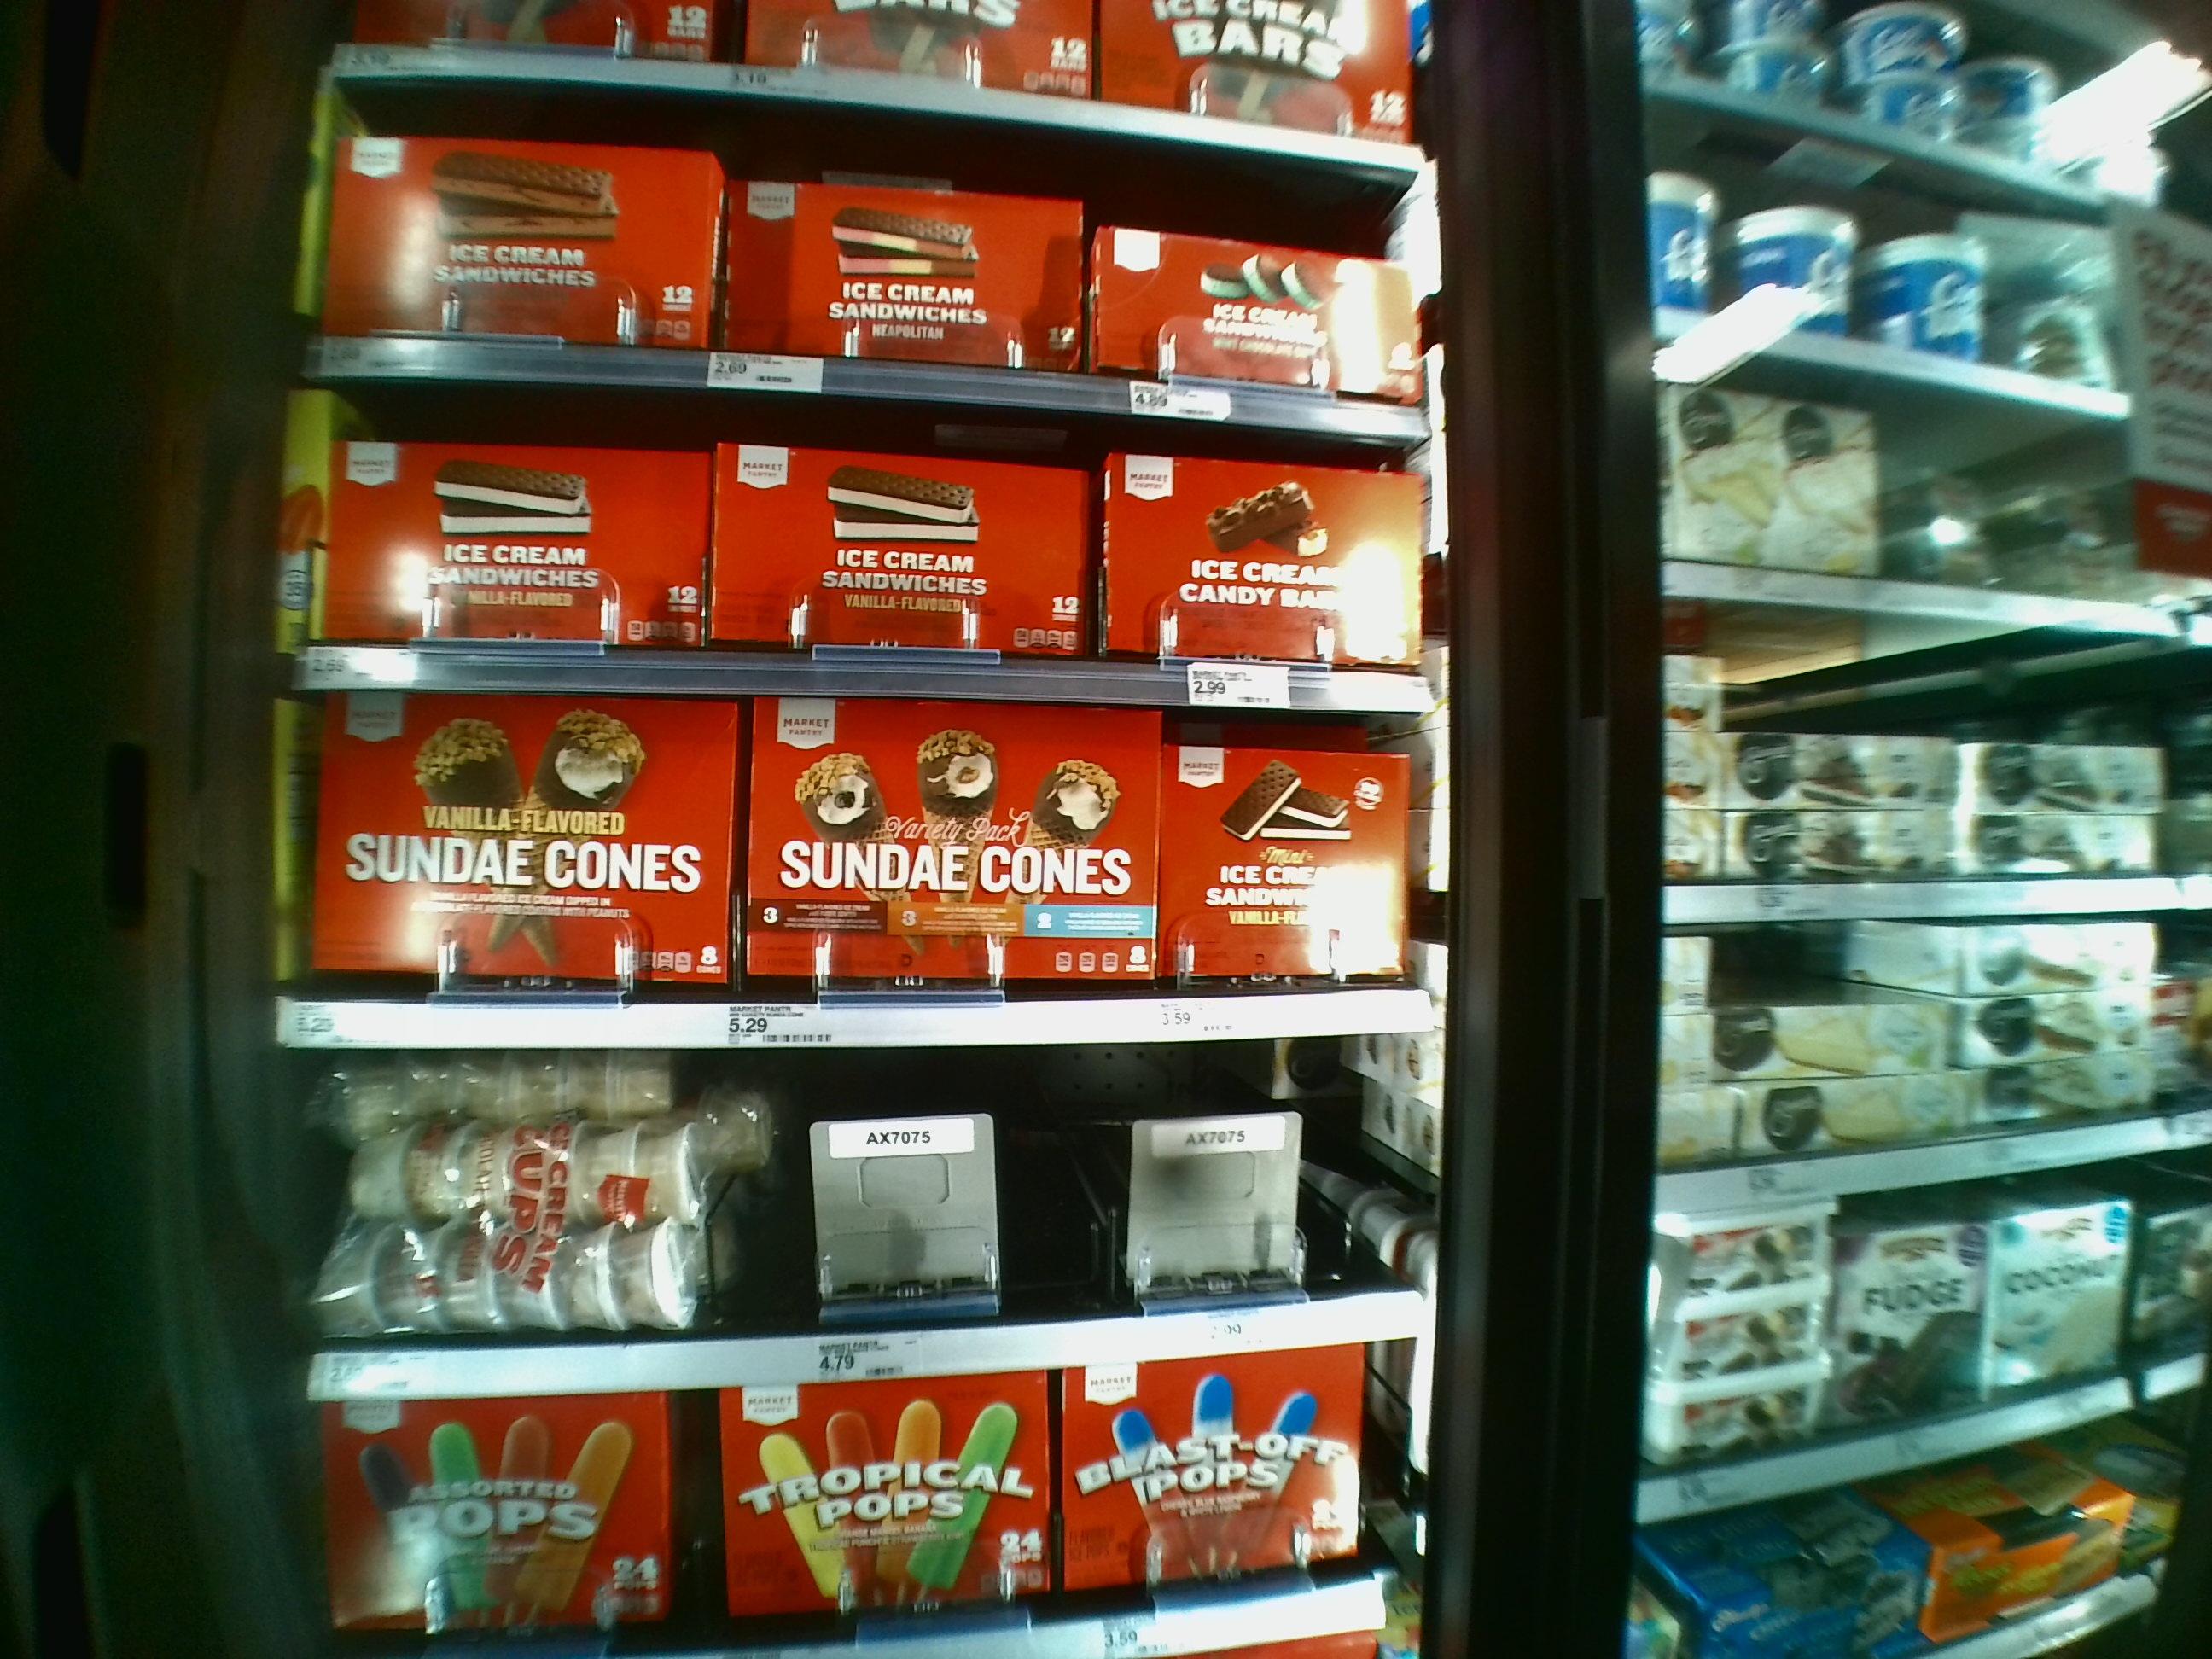shelf: (293, 1049, 1449, 1385), (314, 77, 1446, 418), (305, 695, 1423, 1037), (314, 401, 1407, 695)
